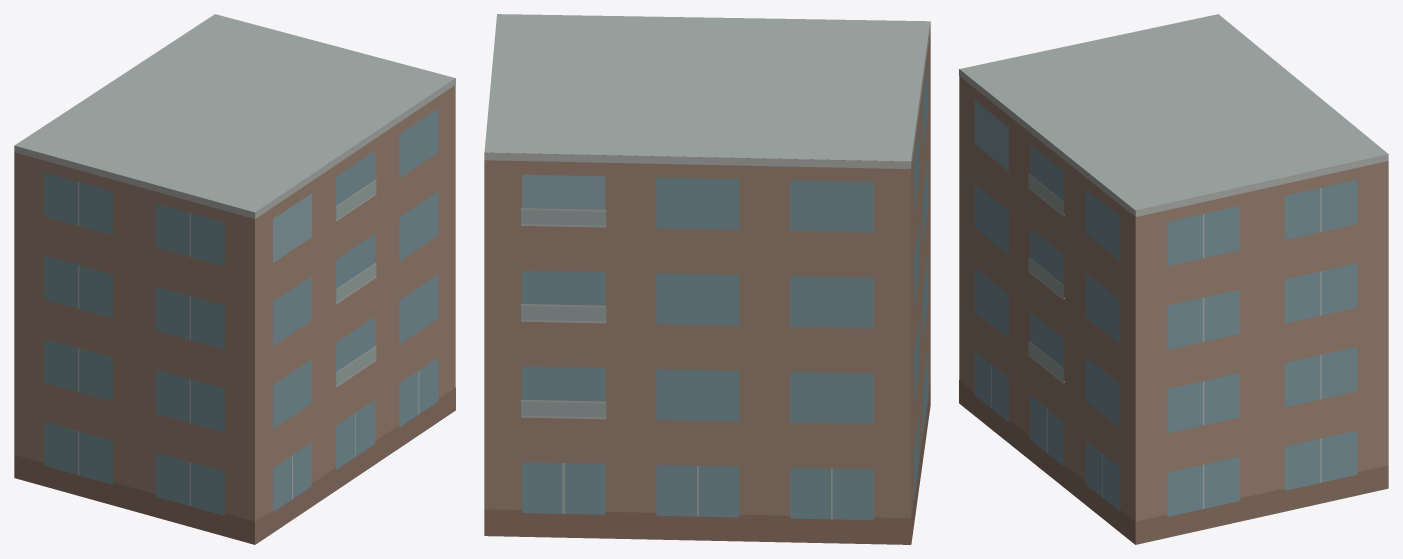
Rendered from survey-upis-32979440.glb.
3 views of the same model, side by side, from view 1: azimuth 30°, elevation 25°; view 2: azimuth 150°, elevation 25°; view 3: azimuth 270°, elevation 25° (orthographic). The views are drawn at different scales.
Parts seen in each view (by area): view 1: survey-upis-32979440.tmp; view 2: survey-upis-32979440.tmp; view 3: survey-upis-32979440.tmp.
Part boxes in pixels (left/top/right/bottom): survey-upis-32979440.tmp: left=14, top=14, right=455, bottom=544; survey-upis-32979440.tmp: left=484, top=14, right=930, bottom=544; survey-upis-32979440.tmp: left=959, top=14, right=1388, bottom=544.
Size of the model in its own units: 15.38 by 12.2 by 14.21.
